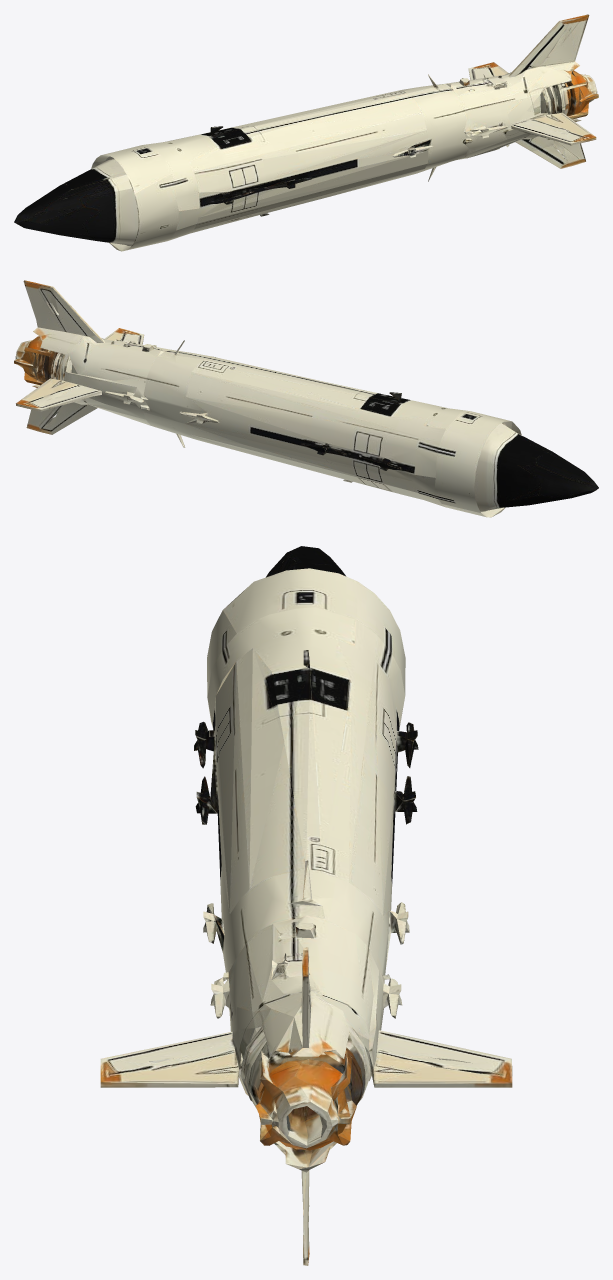
File: guided-missile.glb
3 views of the same model, one above another, from view 1: azimuth 30°, elevation 25°; view 2: azimuth 150°, elevation 25°; view 3: azimuth 270°, elevation 25° (orthographic). The views are drawn at different scales.
Bounding box in the file's own units: 1.9 × 0.4635 × 0.5869.
Materials: 1 (1 with a texture image).
